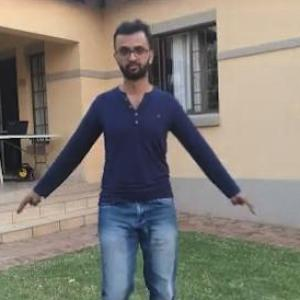land: (70, 69, 212, 299)
